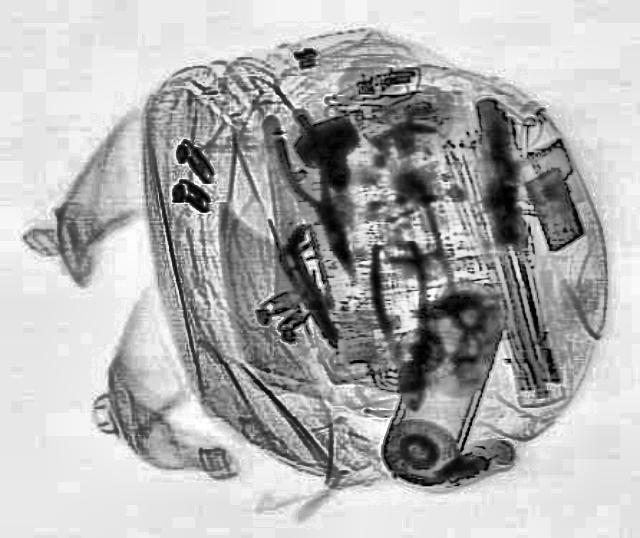Pliers: (262, 111, 370, 283), (364, 238, 442, 412)
